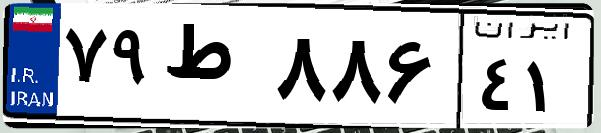1: (525, 38, 570, 115)
4: (475, 38, 525, 113)
6: (385, 28, 445, 110)
7: (57, 26, 110, 100)
8: (270, 28, 330, 110), (330, 28, 385, 110)
9: (110, 28, 158, 98)
ط: (158, 20, 270, 120)
